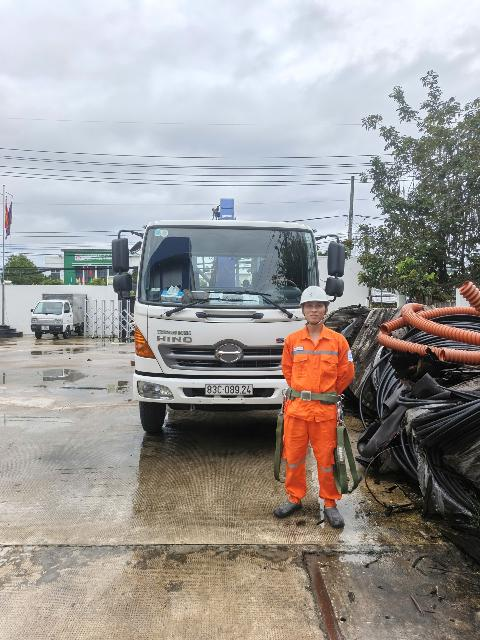harness: (283, 379, 348, 412)
helmet: (290, 280, 336, 311)
shoes: (311, 498, 351, 530), (274, 490, 303, 524)
